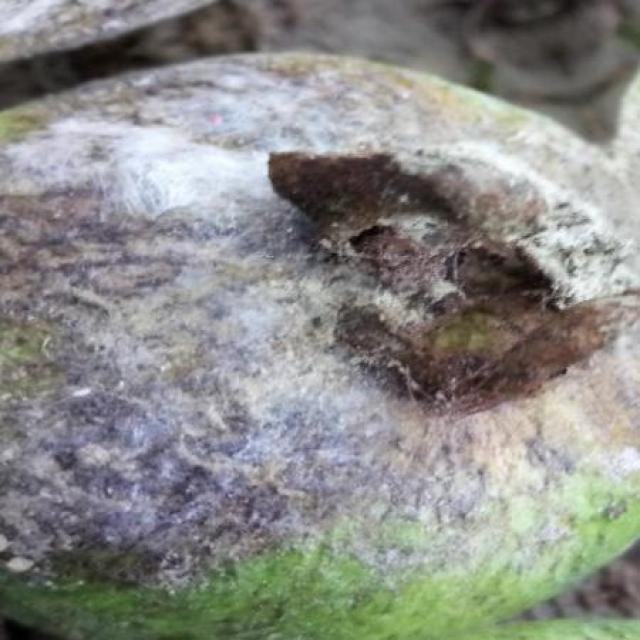Phytopthora: (0, 55, 640, 640)
